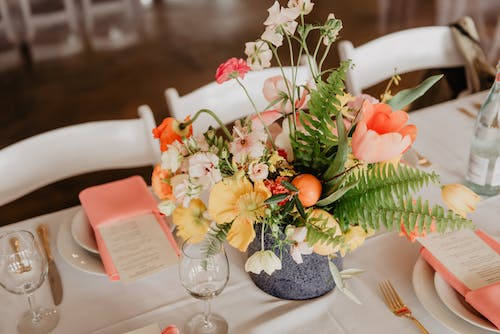knife: (35, 221, 65, 308)
